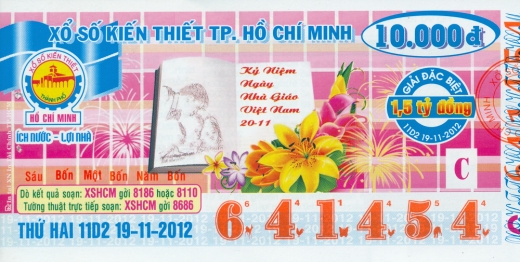serial_zone: (207, 192, 503, 245)
